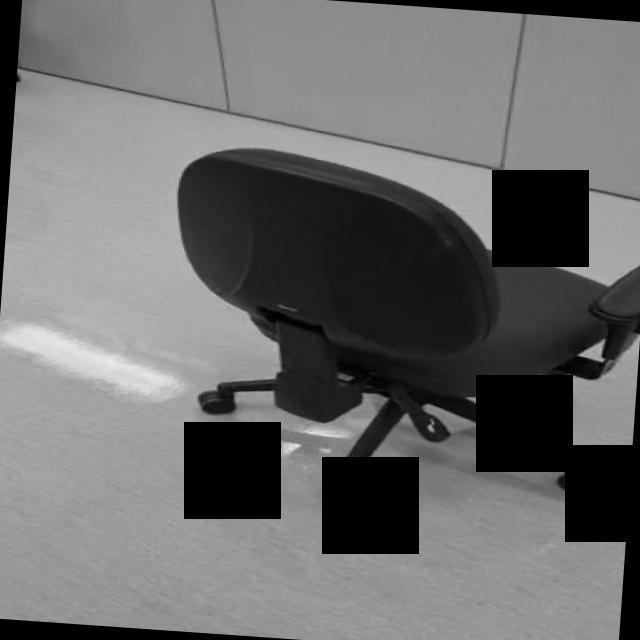chair: (156, 140, 640, 533)
